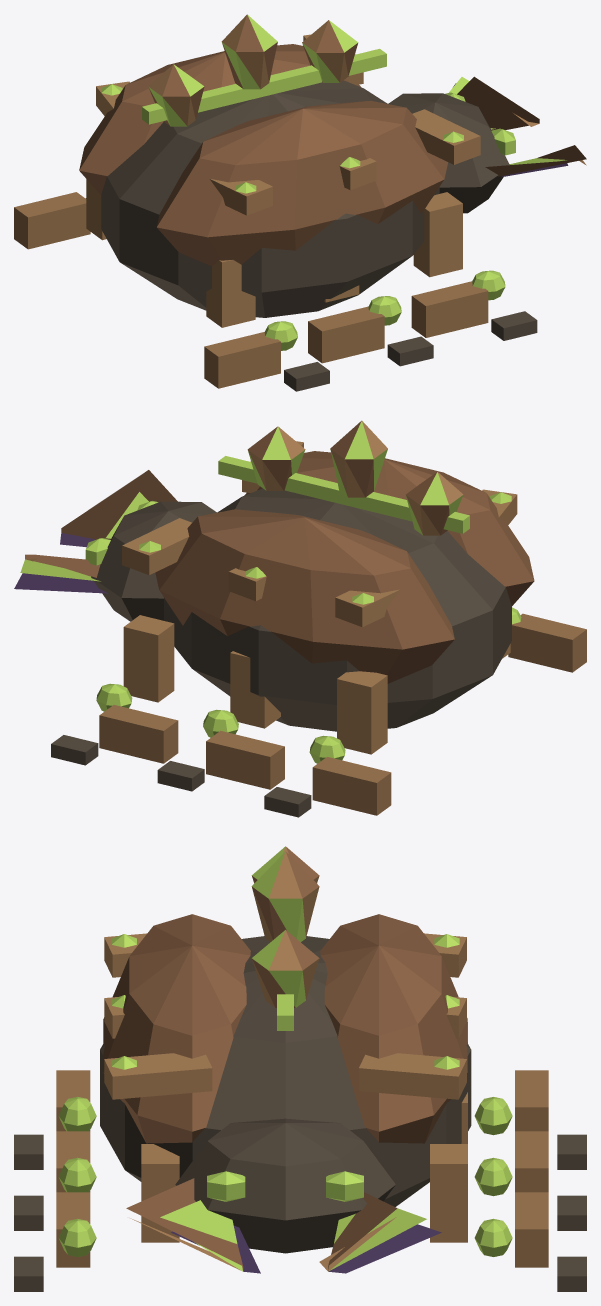
The model's file is enemy-rustBeetle.glb.
The picture shows the model from 3 angles, top to bottom: view 1: azimuth 30°, elevation 25°; view 2: azimuth 150°, elevation 25°; view 3: azimuth 270°, elevation 25°; orthographic projection. The views are drawn at different scales.
Parts seen in each view (by area): view 1: Rust beetle, split shell and acid seams; view 2: Rust beetle, split shell and acid seams; view 3: Rust beetle, split shell and acid seams.
Boxes of the visible parts, x1=… form: Rust beetle, split shell and acid seams: x1=14, y1=14, x2=586, y2=391; Rust beetle, split shell and acid seams: x1=14, y1=420, x2=586, y2=817; Rust beetle, split shell and acid seams: x1=14, y1=846, x2=586, y2=1291.
Bounding box in the file's own units: 0.72 × 0.45 × 0.675.
